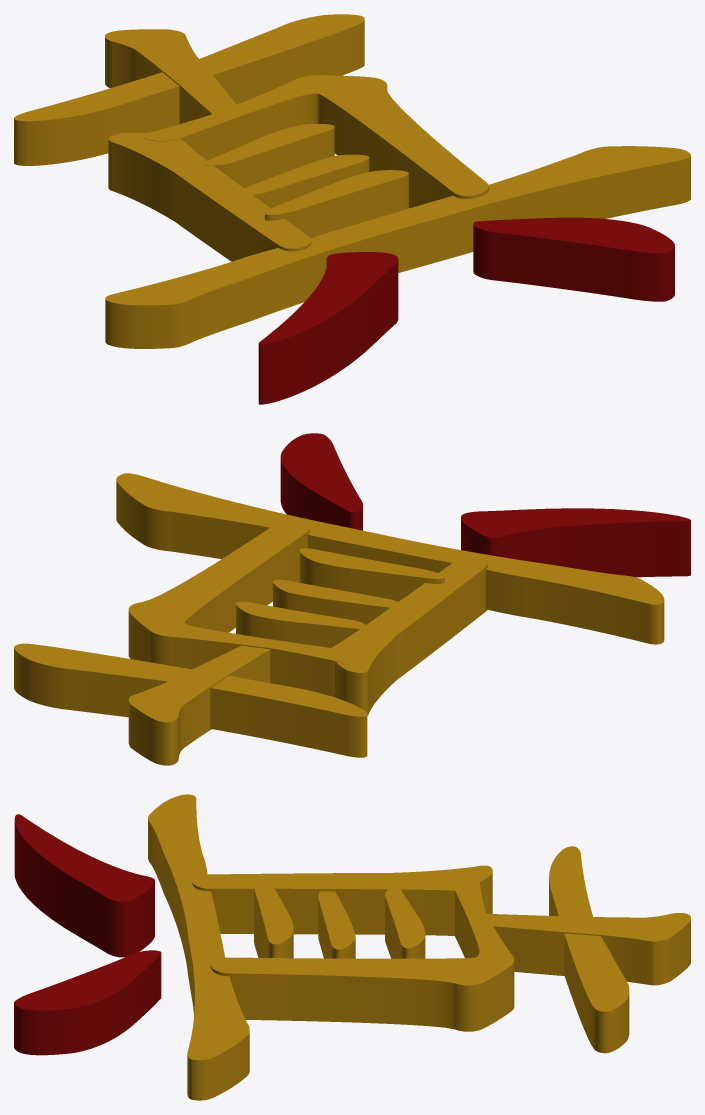
File: hanzi199.fbx
The picture shows the model from 3 angles, top to bottom: view 1: azimuth 30°, elevation 25°; view 2: azimuth 150°, elevation 25°; view 3: azimuth 270°, elevation 25°; orthographic projection. The views are drawn at different scales.
Parts seen in each view (by area): view 1: Curve.007, Curve, Curve.003, Curve.009, Curve.008, Curve.002, Curve.001, Curve.006, Curve.004, Curve.005; view 2: Curve.007, Curve, Curve.003, Curve.008, Curve.002, Curve.001, Curve.009, Curve.006, Curve.004, Curve.005; view 3: Curve.003, Curve.007, Curve.002, Curve.008, Curve.009, Curve.001, Curve, Curve.006, Curve.004, Curve.005.
Part boxes in pixels (x1=…): Curve.007: x1=105, y1=146, x2=690, y2=348; Curve: x1=14, y1=14, x2=364, y2=165; Curve.003: x1=143, y1=75, x2=488, y2=208; Curve.009: x1=473, y1=217, x2=674, y2=301; Curve.008: x1=258, y1=252, x2=398, y2=404; Curve.002: x1=108, y1=132, x2=311, y2=261; Curve.001: x1=105, y1=29, x2=236, y2=123; Curve.006: x1=265, y1=170, x2=408, y2=237; Curve.004: x1=199, y1=124, x2=334, y2=188; Curve.005: x1=244, y1=154, x2=369, y2=208; Curve.007: x1=116, y1=473, x2=664, y2=644; Curve: x1=14, y1=643, x2=367, y2=757; Curve.003: x1=128, y1=521, x2=348, y2=697; Curve.008: x1=461, y1=508, x2=690, y2=577; Curve.002: x1=331, y1=557, x2=487, y2=715; Curve.001: x1=128, y1=645, x2=270, y2=765; Curve.009: x1=280, y1=433, x2=362, y2=530; Curve.006: x1=299, y1=548, x2=444, y2=601; Curve.004: x1=236, y1=601, x2=371, y2=647; Curve.005: x1=273, y1=579, x2=397, y2=624; Curve.003: x1=210, y1=878, x2=514, y2=1031; Curve.007: x1=148, y1=794, x2=249, y2=1100; Curve.002: x1=192, y1=865, x2=492, y2=935; Curve.008: x1=14, y1=814, x2=154, y2=957; Curve.009: x1=14, y1=950, x2=161, y2=1055; Curve.001: x1=487, y1=913, x2=690, y2=985; Curve: x1=549, y1=846, x2=629, y2=1053; Curve.006: x1=254, y1=876, x2=293, y2=958; Curve.004: x1=385, y1=884, x2=425, y2=958; Curve.005: x1=318, y1=891, x2=355, y2=958.
Bounding box in the file's own units: 23.54 × 25.34 × 2.3.
